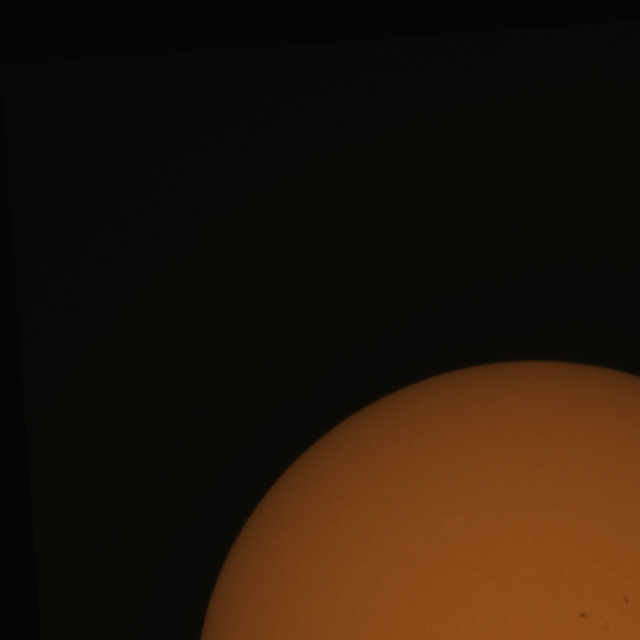sunspot: (578, 610, 590, 620), (622, 594, 630, 604)
